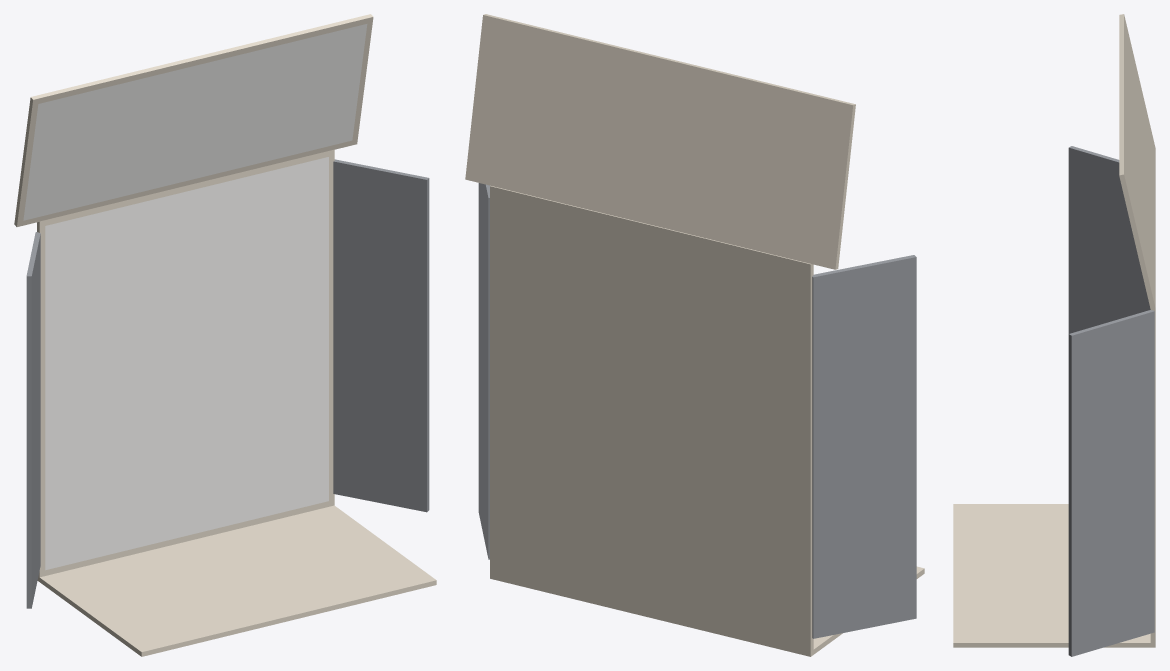
File: source.glb
The picture shows the model from 3 angles, left to right: view 1: azimuth 30°, elevation 25°; view 2: azimuth 150°, elevation 25°; view 3: azimuth 270°, elevation 25°; orthographic projection. The views are drawn at different scales.
Parts seen in each view (by area): view 1: BACK_FACE, HEADER_FACE, WING_RIGHT_BOARD, BASE, BACK_BOARD, HEADER_BOARD, WING_LEFT_BOARD; view 2: BACK_BOARD, HEADER_BOARD, WING_LEFT_BOARD, WING_RIGHT_BOARD, BASE; view 3: WING_RIGHT_BOARD, BASE, WING_LEFT_BOARD, HEADER_BOARD, BACK_BOARD.
Part boxes in pixels (<box>): BACK_FACE: <box>45,157,328,570</box>; HEADER_FACE: <box>23,24,367,220</box>; WING_RIGHT_BOARD: <box>333,159,429,512</box>; BASE: <box>37,505,436,656</box>; BACK_BOARD: <box>37,149,334,577</box>; HEADER_BOARD: <box>14,14,373,226</box>; WING_LEFT_BOARD: <box>26,232,40,608</box>; BACK_BOARD: <box>490,185,813,651</box>; HEADER_BOARD: <box>465,14,855,269</box>; WING_LEFT_BOARD: <box>812,255,916,638</box>; WING_RIGHT_BOARD: <box>478,183,489,559</box>; BASE: <box>490,566,924,656</box>; WING_RIGHT_BOARD: <box>1068,310,1154,656</box>; BASE: <box>953,504,1155,647</box>; WING_LEFT_BOARD: <box>1068,146,1150,333</box>; HEADER_BOARD: <box>1119,14,1155,309</box>; BACK_BOARD: <box>1150,309,1155,642</box>.
Bounding box in the file's own units: 35.5 × 42.18 × 16.
